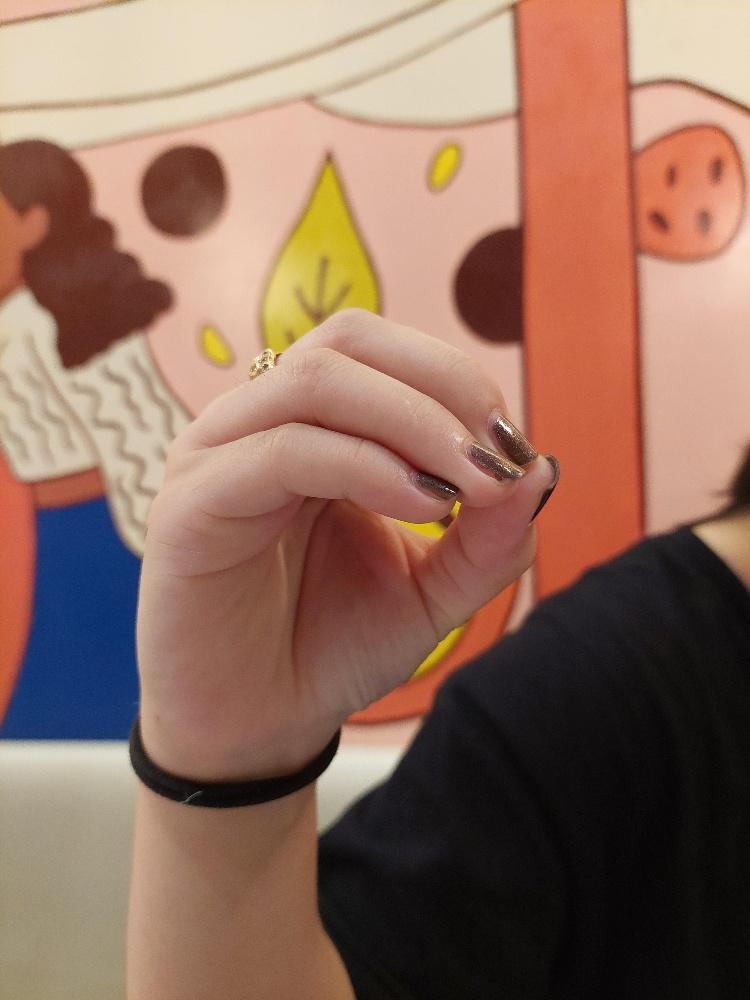o: (131, 302, 563, 755)
